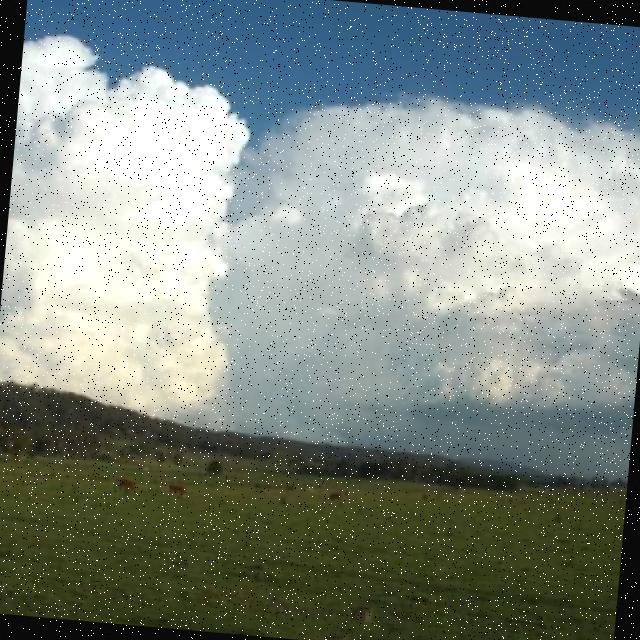Cb: (1, 27, 640, 409)
